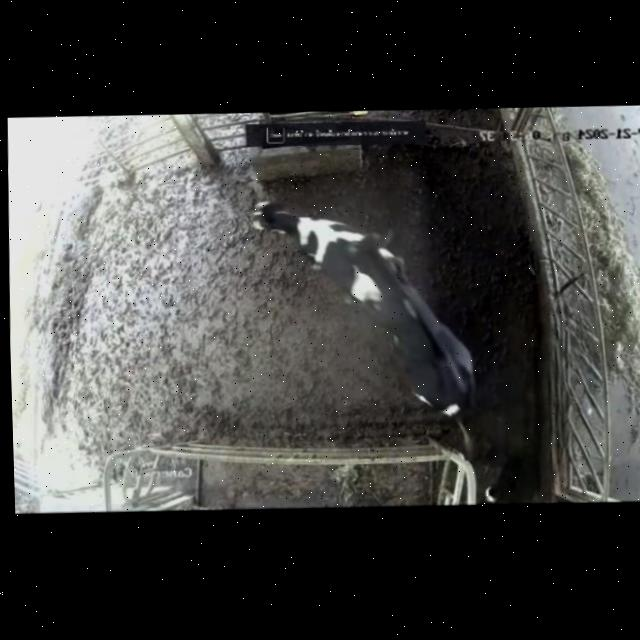ride: (326, 227, 492, 446)
stand: (229, 180, 398, 320)
